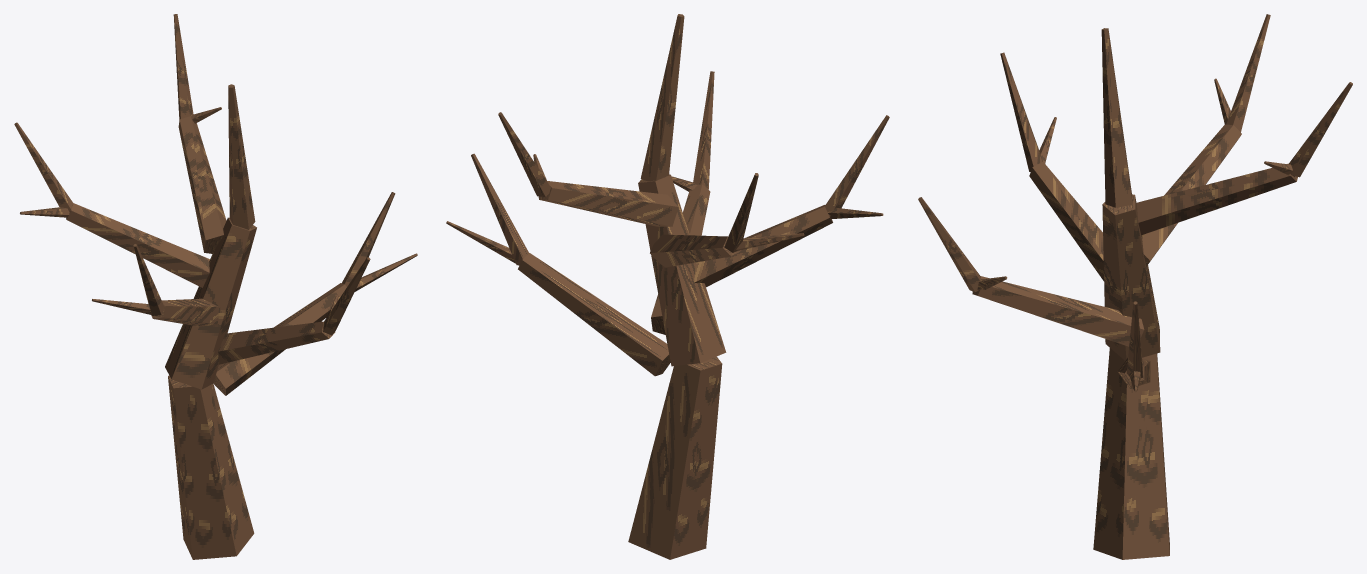
File: arvore-seca-v02.gltf
The picture shows the model from 3 angles, left to right: view 1: azimuth 30°, elevation 25°; view 2: azimuth 150°, elevation 25°; view 3: azimuth 270°, elevation 25°; orthographic projection. The views are drawn at different scales.
Parts seen in each view (by area): view 1: tronco-galhos-copa; view 2: tronco-galhos-copa; view 3: tronco-galhos-copa.
Part boxes in pixels (x1,y1,x2,y2): tronco-galhos-copa: (14, 14, 417, 559); tronco-galhos-copa: (446, 14, 889, 559); tronco-galhos-copa: (918, 14, 1352, 559).
Bounding box in the file's own units: 3.08 × 3.85 × 2.88.
1 material, 1 textured.
